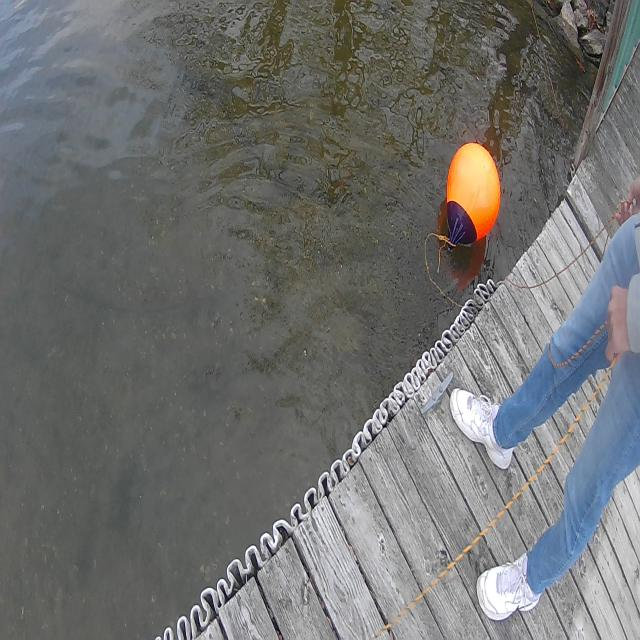Buoy: (445, 140, 502, 243)
